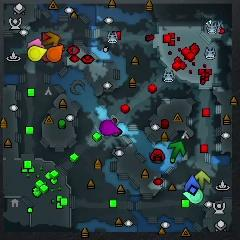p1: (185, 175, 200, 191)
p2: (184, 189, 204, 204)
p3: (99, 119, 119, 135)
p4: (28, 46, 47, 61)
p5: (48, 45, 63, 62)
x1: (28, 38, 44, 47)
x2: (195, 170, 211, 190)
x4: (168, 140, 185, 160)
x5: (42, 32, 60, 46)
